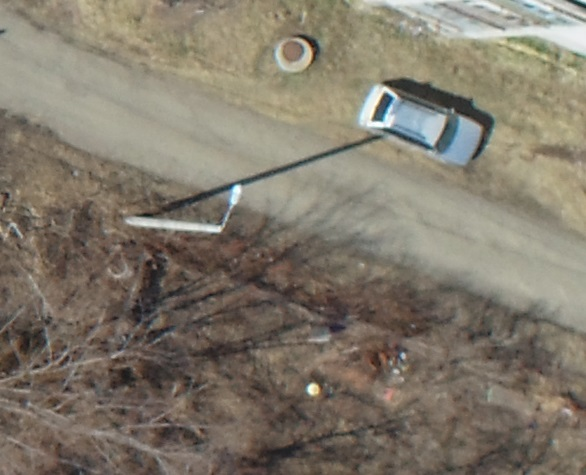opora: (120, 179, 266, 235)
